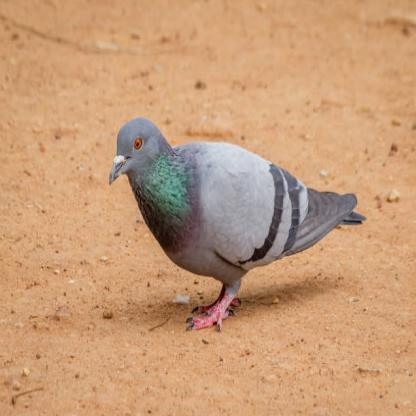Rock Pigeon: (109, 110, 368, 319)
